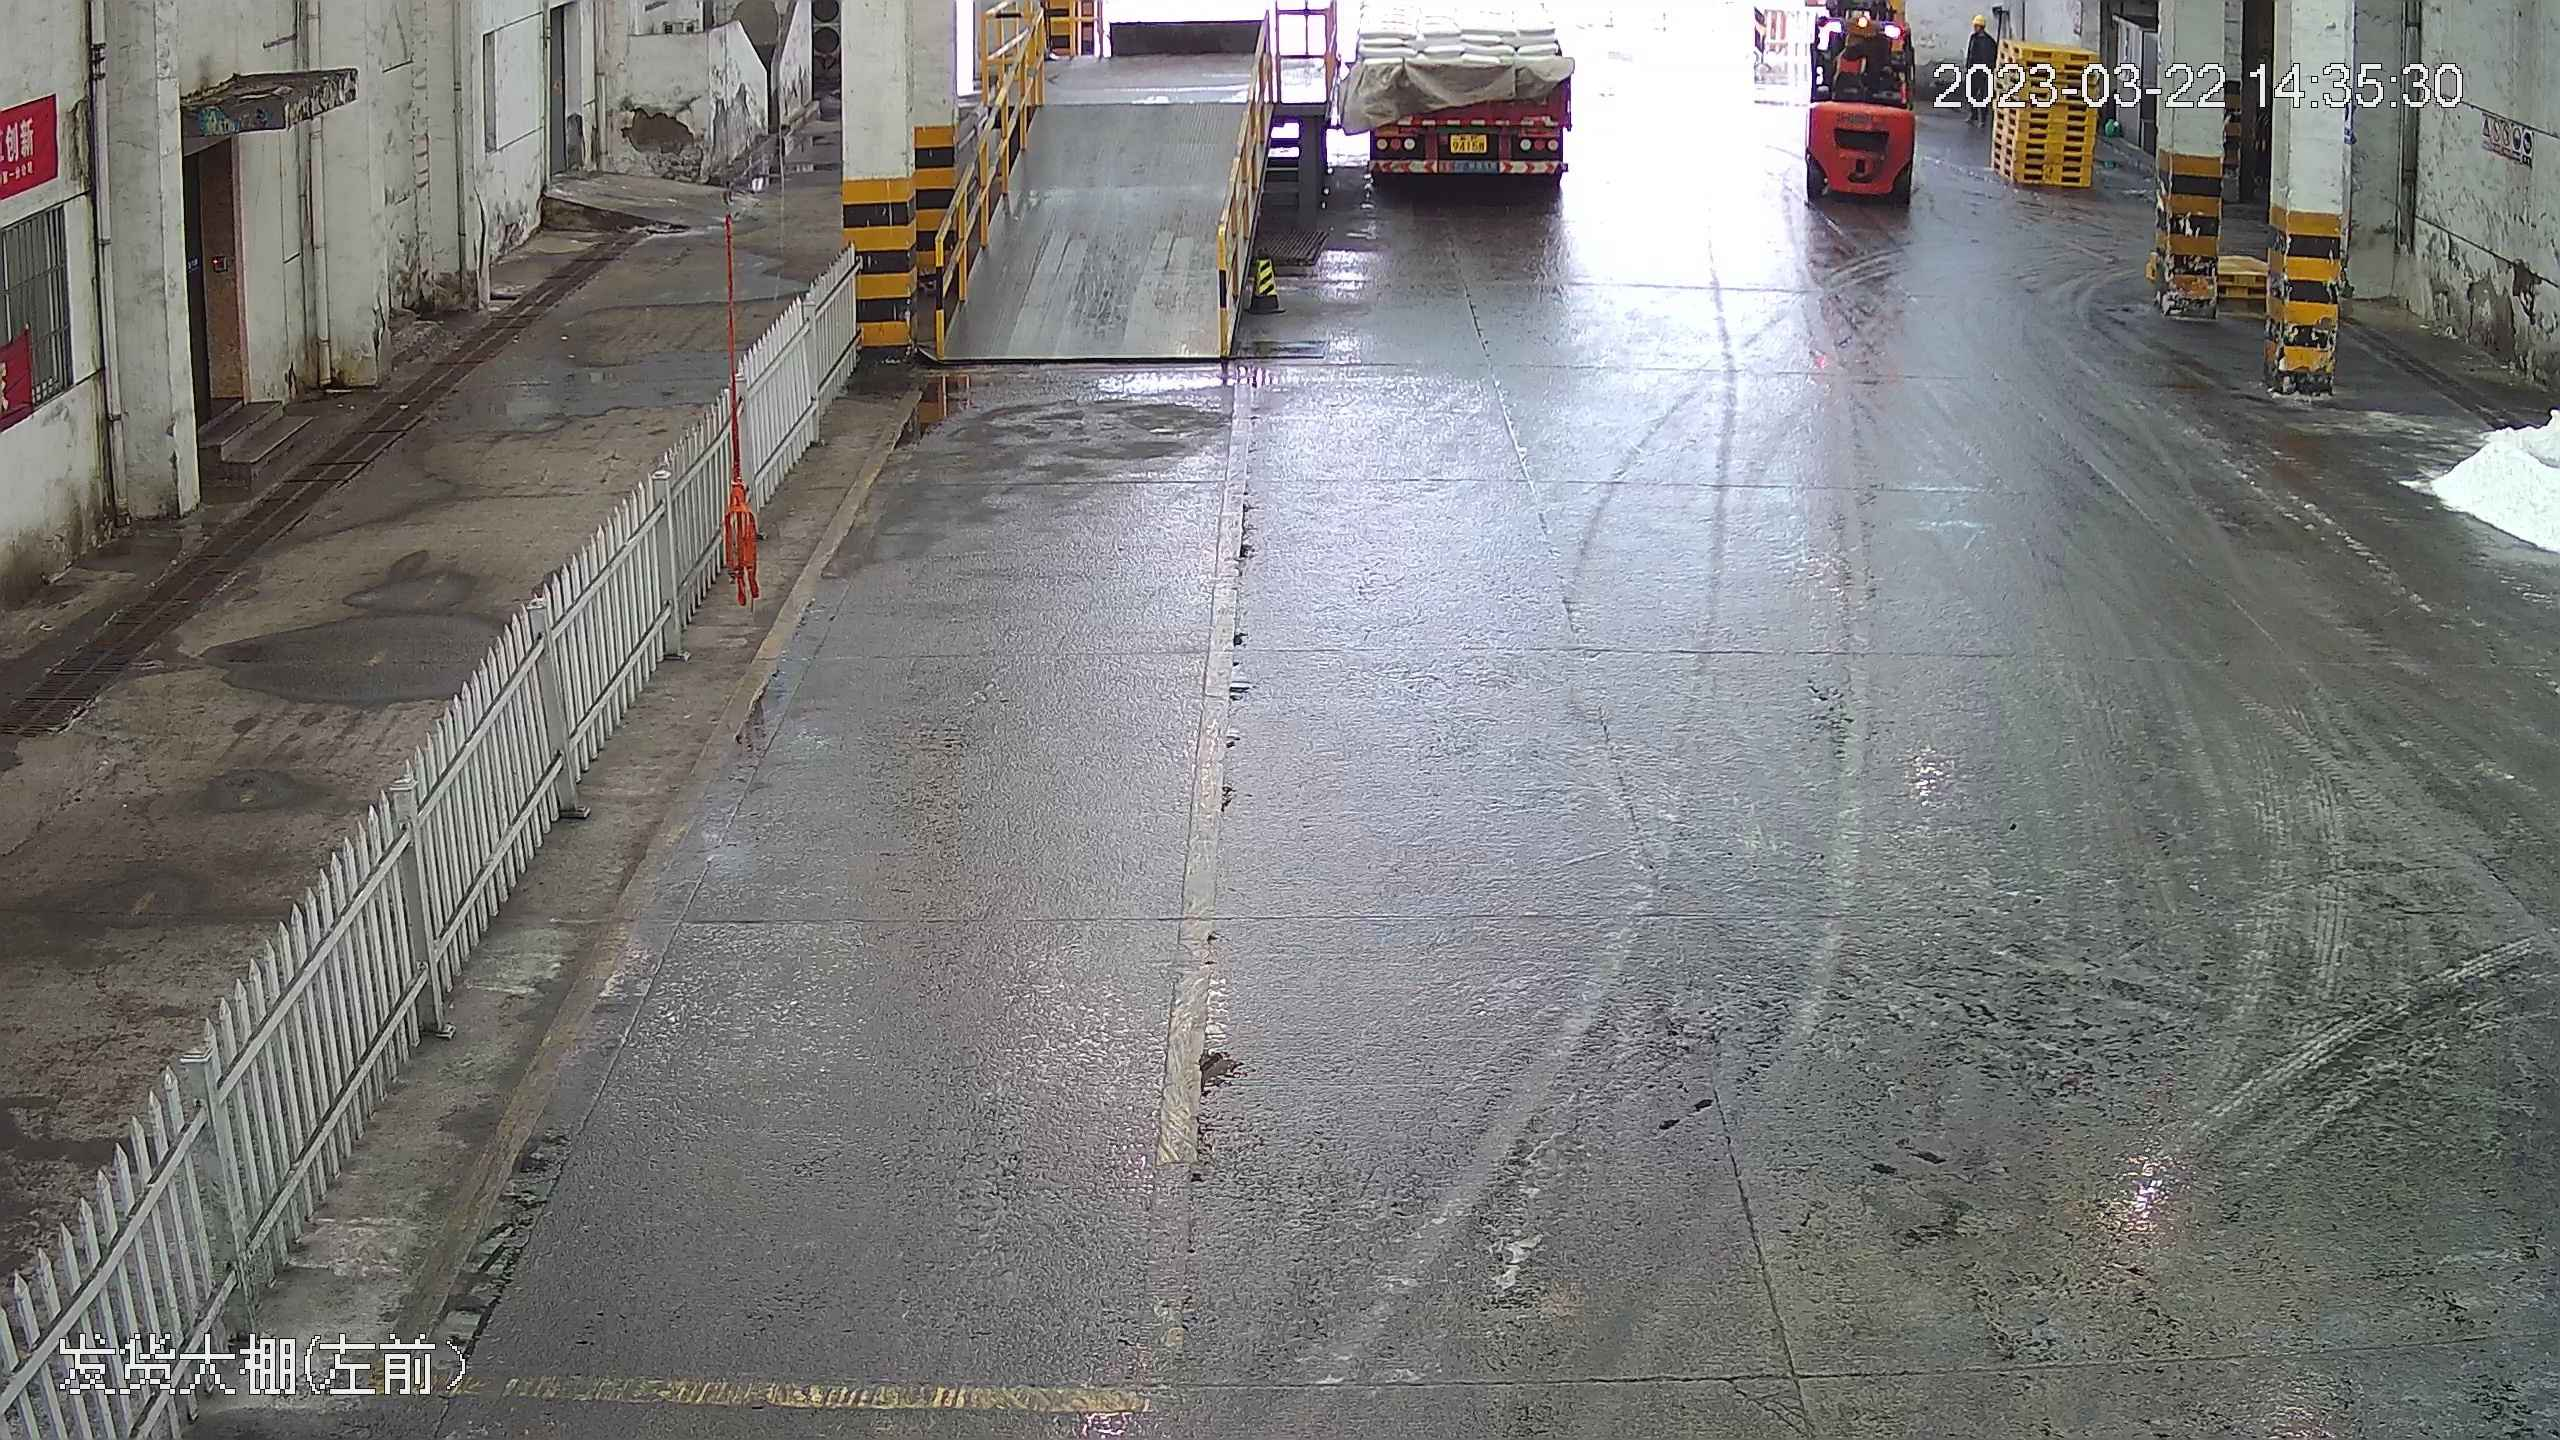head: (1964, 12, 1997, 49)
helmet: (1966, 11, 1995, 34)
people: (1955, 12, 1995, 110)
truck: (1329, 11, 1584, 186)
